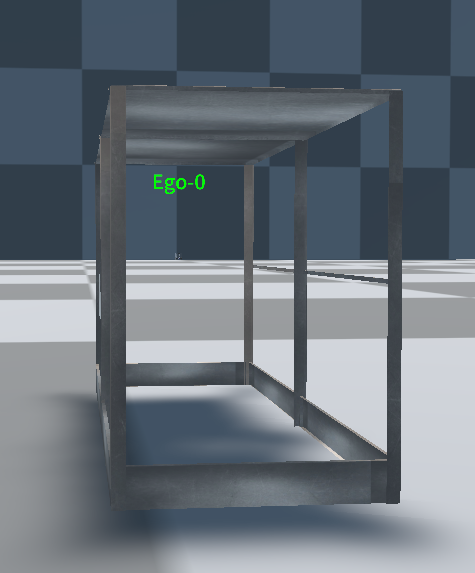Rack: (93, 80, 404, 510)
